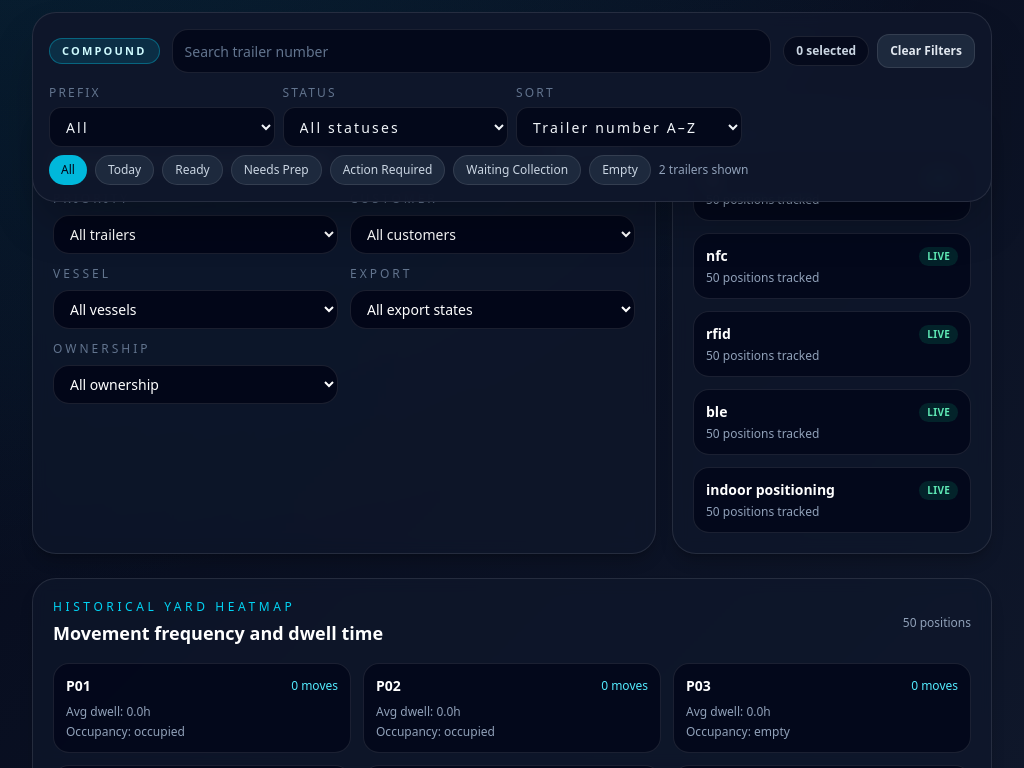
it: Compound ownership filter › filters shown trailers by ownership
(page scrolled)
Expected: the text "2 trailers shown" is shown, [659,162,748,178]
Select "Outsourcing" in the dropdown labelled "Ownership". click: (196, 384)
box: [53,365,338,404]
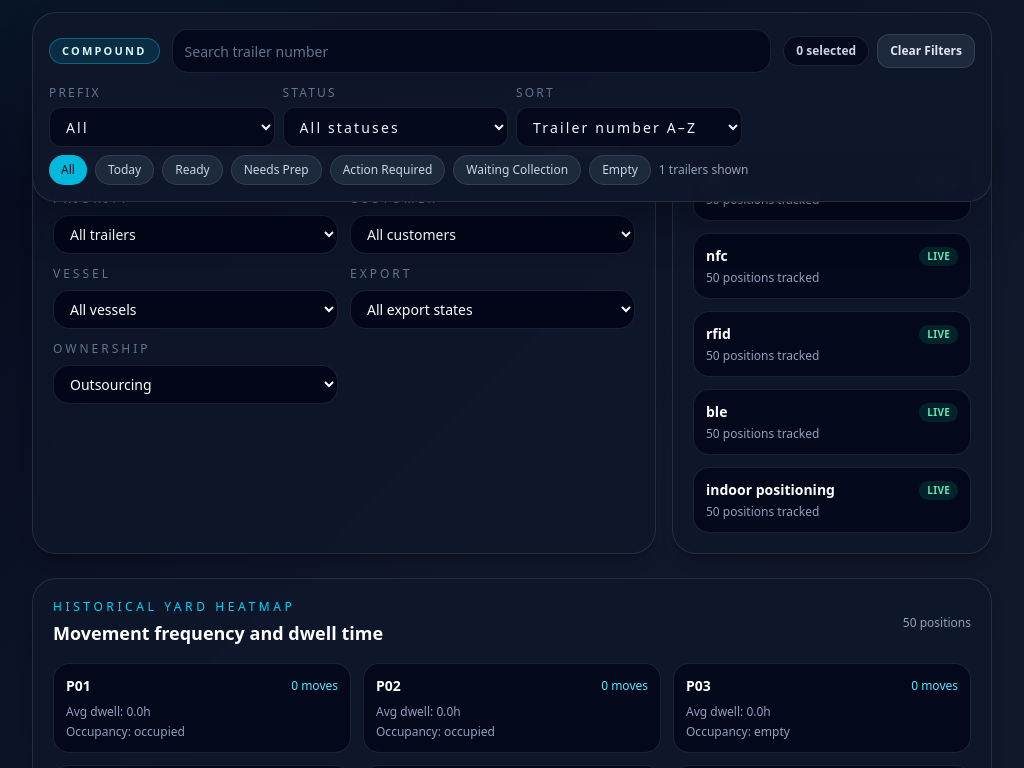
Now the text "1 trailers shown" is shown, box [659,162,748,178]
